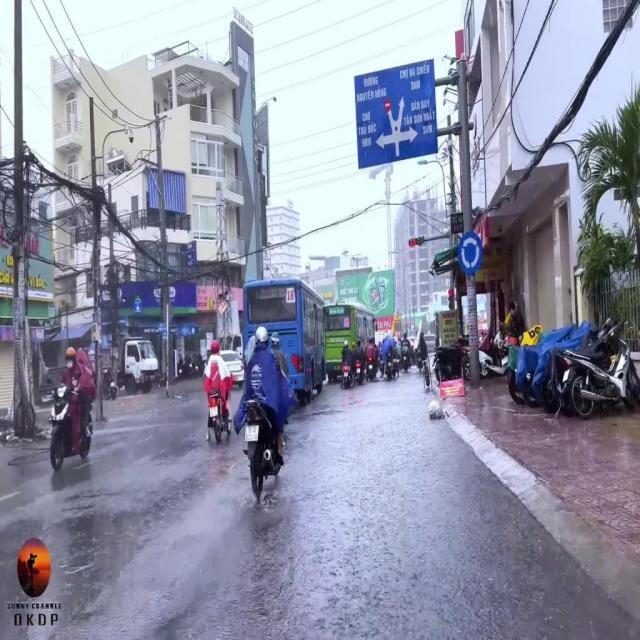303-noi-giao-nhau-chay-theo-vong-xuyen: (458, 233, 483, 274)
